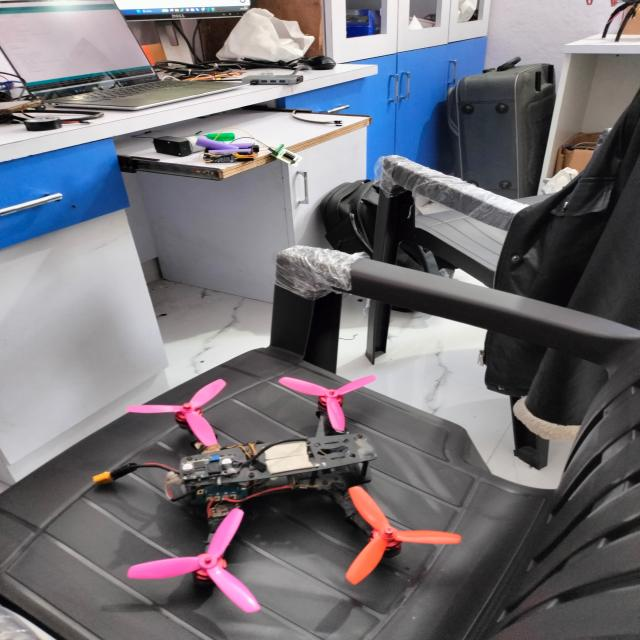drone: (148, 371, 450, 591)
